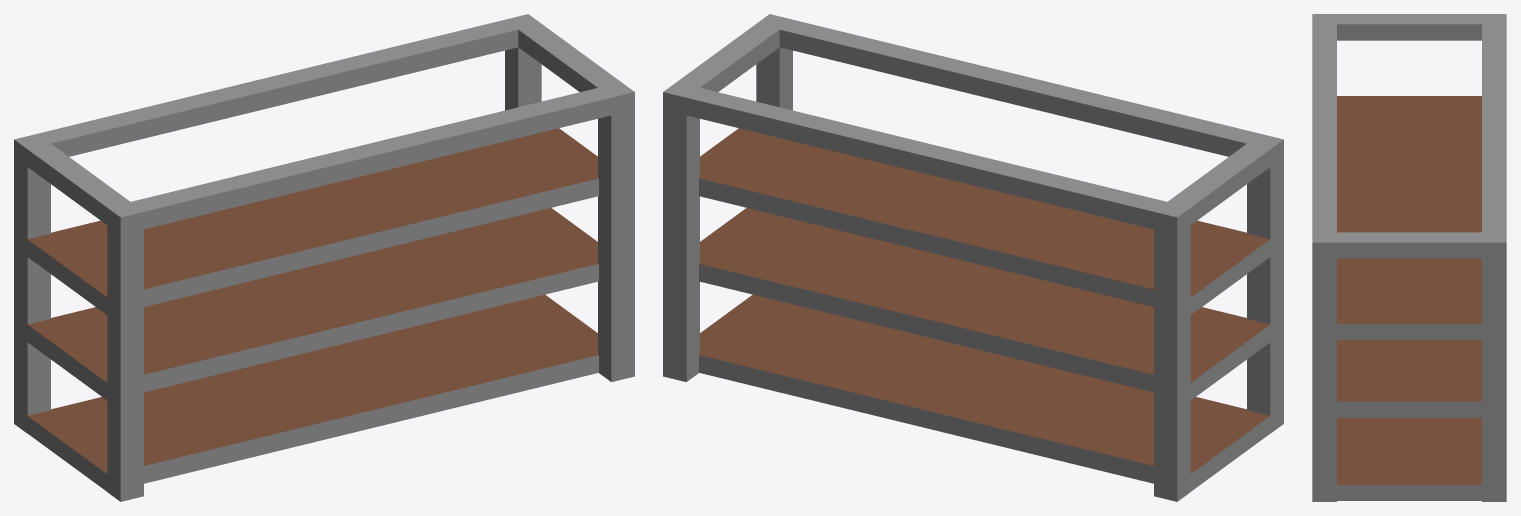
The model's file is Shelf.fbx.
The picture shows the model from 3 angles, left to right: view 1: azimuth 30°, elevation 25°; view 2: azimuth 150°, elevation 25°; view 3: azimuth 270°, elevation 25°; orthographic projection. The views are drawn at different scales.
Visible parts, largest first — view 1: ShelfLegs; view 2: ShelfLegs; view 3: ShelfLegs.
Part boxes in pixels (box(x1,y1,x2,y2)): ShelfLegs: box(14, 14, 634, 501); ShelfLegs: box(663, 14, 1283, 501); ShelfLegs: box(1312, 14, 1506, 501).
Size of the model in its own units: 924 by 489 by 332.
